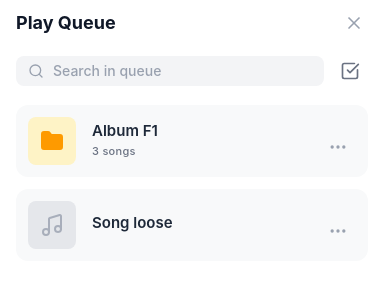
Test: QueuePanel folder drill-down › folder row có menu: mở thấy đúng Navigate + Remove Folder from Queue, không mở drill-down
Click the button named "More actions" in the row of "Album F1" at coordinates (338, 147), box 320,129 -> 356,165
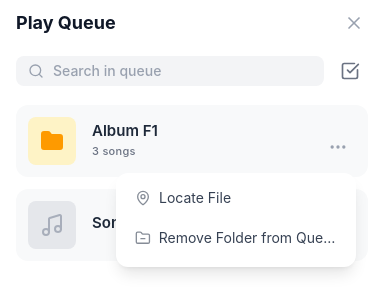
Expected: the cell with test id "queue-folder-row" is shown, 16,105 -> 368,189
Now the menu is shown, box 116,173 -> 356,267
